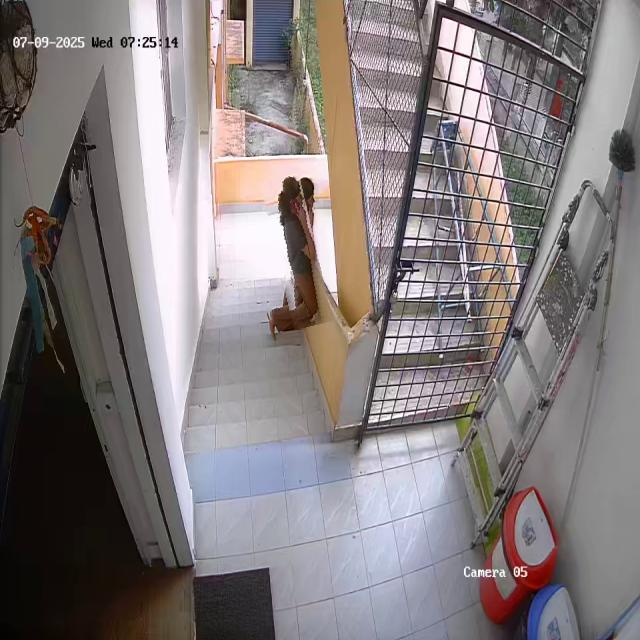person: (268, 175, 325, 329)
